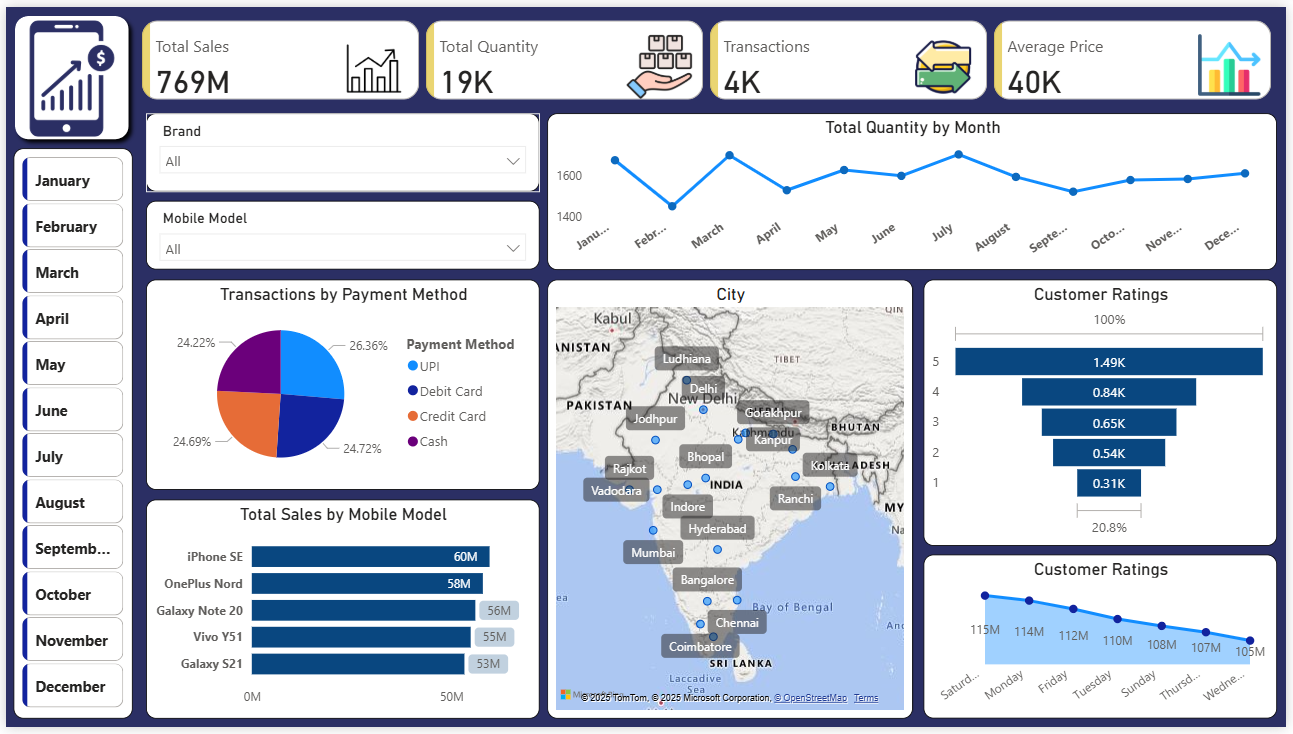

The dashboard page shown, as its layout file describes it:
{"tool":"powerbi","page":{"name":"Dashboard","canvas":[1280,720],"ordinal":0},"visuals":[{"type":"shape","box":[0,0,131.5,141.2],"z":0},{"type":"image","box":[0,8.4,131.5,125.5],"z":1000},{"type":"advancedSlicerVisual","fields":{"Values":["Mobile_data.Date.Variation.Date Hierarchy.Month"]},"box":[7.2,141.2,119.4,570.6],"z":2000},{"type":"cardVisual","fields":{"Data":["Mobile_data.Total Sales","Mobile_data.Total Quantity","Mobile_data.Transactions","Mobile_data.Average Price"]},"box":[131.5,8.4,1140.1,89.3],"z":3000},{"type":"lineChart","fields":{"Y":["Mobile_data.Total Quantity"],"Category":["Mobile_data.Date.Variation.Date Hierarchy.Month","Mobile_data.Date.Variation.Date Hierarchy.Day"]},"box":[541.7,106.2,729.9,156.8],"z":4000},{"type":"map","fields":{"Category":["Mobile_data.City"]},"box":[541.7,272.7,365.6,439.1],"z":5000},{"type":"clusteredBarChart","fields":{"Category":["Mobile_data.Mobile Model"],"Y":["Mobile_data.Total Sales"]},"box":[139.9,492.2,393.3,219.6],"z":6000},{"type":"pieChart","fields":{"Category":["Mobile_data.Payment Method"],"Y":["Mobile_data.Transactions"]},"box":[140,272.5,393.8,210],"z":7000},{"type":"funnel","title":"Customer Ratings","fields":{"Category":["Mobile_data.Customer Ratings"],"Y":["CountNonNull(Mobile_data.Customer Ratings)"]},"box":[918.1,272.7,353.5,266.6],"z":8000},{"type":"stackedAreaChart","title":"Customer Ratings","fields":{"Y":["Mobile_data.Total Sales"],"Category":["Mobile_data.Day Name"]},"box":[918.1,547.7,353.5,164.1],"z":9000},{"type":"slicer","fields":{"Values":["Mobile_data.Brand"]},"box":[140,106.2,393.8,78.8],"z":10000},{"type":"slicer","fields":{"Values":["Mobile_data.Mobile Model"]},"box":[140,193.8,393.8,68.8],"z":11000}]}

Visuals, with their boxes in screenshot pixels (x1, y1, x2, y2), scaled from the page's 1280x720 canvas onto the 1293x734 screenshot:
shape: select_region(0, 0, 133, 144)
image: select_region(0, 9, 133, 137)
advancedSlicerVisual - Mobile_data.Date.Variation.Date Hierarchy.Month: select_region(7, 144, 128, 726)
cardVisual - Mobile_data.Total Sales x Mobile_data.Total Quantity: select_region(133, 9, 1285, 100)
lineChart - Mobile_data.Total Quantity x Mobile_data.Date.Variation.Date Hierarchy.Month: select_region(547, 108, 1285, 268)
map - Mobile_data.City: select_region(547, 278, 917, 726)
clusteredBarChart - Mobile_data.Mobile Model x Mobile_data.Total Sales: select_region(141, 502, 539, 726)
pieChart - Mobile_data.Payment Method x Mobile_data.Transactions: select_region(141, 278, 539, 492)
"Customer Ratings" funnel: select_region(927, 278, 1285, 550)
"Customer Ratings" stackedAreaChart: select_region(927, 558, 1285, 726)
slicer - Mobile_data.Brand: select_region(141, 108, 539, 189)
slicer - Mobile_data.Mobile Model: select_region(141, 198, 539, 268)
